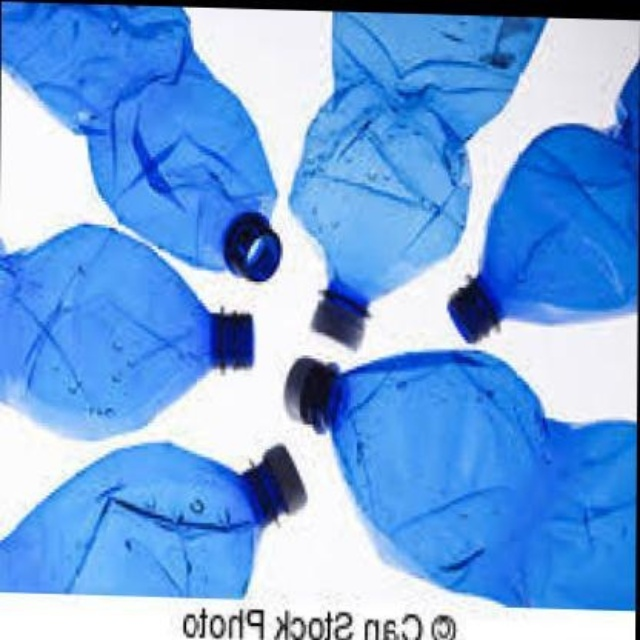trash: (0, 9, 638, 638), (285, 351, 634, 608), (289, 14, 543, 346), (0, 443, 305, 597)
